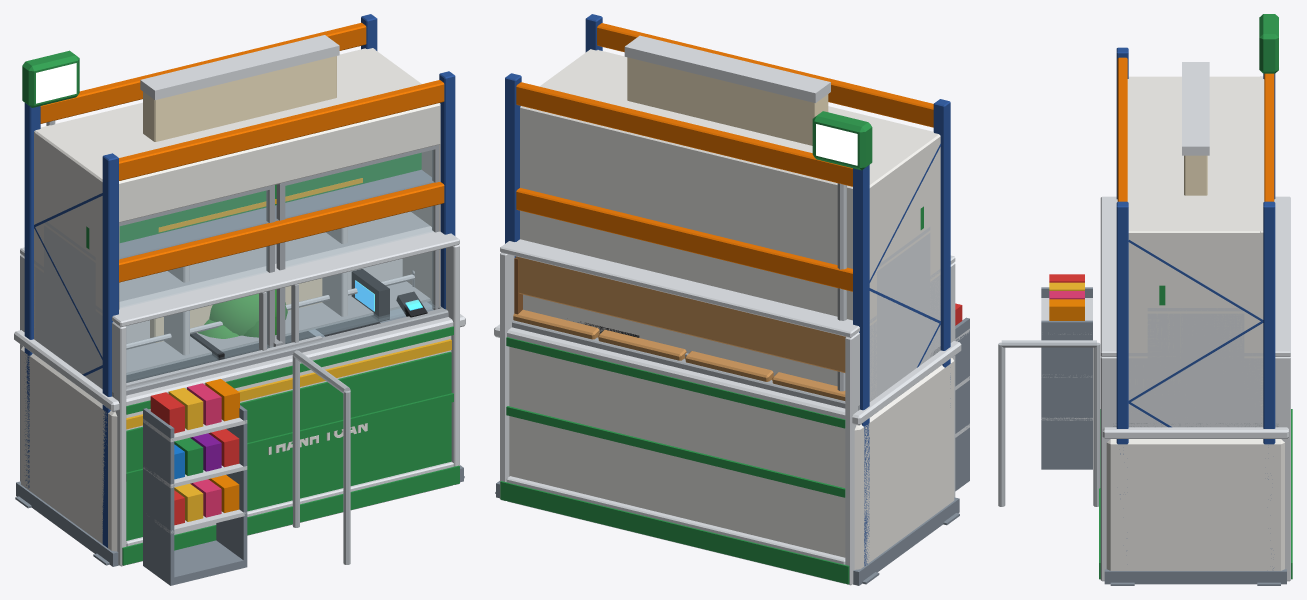
Rendered from fixtures.glb.
3 renders of one model, left to right at view 1: azimuth 30°, elevation 25°; view 2: azimuth 150°, elevation 25°; view 3: azimuth 270°, elevation 25°, orthographic. The views are drawn at different scales.
Parts seen in each view (by area): view 1: FX_Checkout, FX_Fridge, FX_Rack_Empty, FX_Shelf_Double, FX_Partition, FX_Shelf_Single, FX_Freezer, FX_Shelf_Endcap, FX_Plant, FX_ClothesRack; view 2: FX_Checkout, FX_Fridge, FX_Rack_Empty, FX_Shelf_Double, FX_Produce, FX_Partition, FX_Shelf_Single, FX_Freezer; view 3: FX_Checkout, FX_Fridge, FX_Shelf_Double, FX_Shelf_Single, FX_Rack_Empty, FX_Partition.
Part boxes in pixels (bbox=[...]): FX_Checkout: bbox=[14, 50, 465, 585]; FX_Fridge: bbox=[34, 48, 440, 381]; FX_Rack_Empty: bbox=[15, 14, 464, 565]; FX_Shelf_Double: bbox=[20, 226, 459, 566]; FX_Partition: bbox=[140, 35, 339, 342]; FX_Shelf_Single: bbox=[44, 152, 421, 383]; FX_Freezer: bbox=[112, 300, 448, 397]; FX_Shelf_Endcap: bbox=[164, 177, 347, 355]; FX_Plant: bbox=[198, 289, 287, 338]; FX_ClothesRack: bbox=[126, 270, 414, 349]; FX_Checkout: bbox=[494, 111, 969, 585]; FX_Fridge: bbox=[520, 49, 940, 400]; FX_Rack_Empty: bbox=[495, 14, 959, 584]; FX_Shelf_Double: bbox=[500, 239, 955, 585]; FX_Produce: bbox=[513, 256, 845, 400]; FX_Partition: bbox=[624, 35, 830, 145]; FX_Shelf_Single: bbox=[877, 206, 930, 396]; FX_Freezer: bbox=[512, 320, 940, 410]; FX_Checkout: bbox=[998, 14, 1288, 584]; FX_Fridge: bbox=[1127, 76, 1264, 427]; FX_Shelf_Double: bbox=[1099, 196, 1292, 581]; FX_Shelf_Single: bbox=[1147, 285, 1244, 427]; FX_Rack_Empty: bbox=[1110, 47, 1280, 585]; FX_Partition: bbox=[1182, 62, 1209, 195].
Size of the model in its own units: 1.96 by 2.3 by 1.49.
2 materials, 1 textured.
